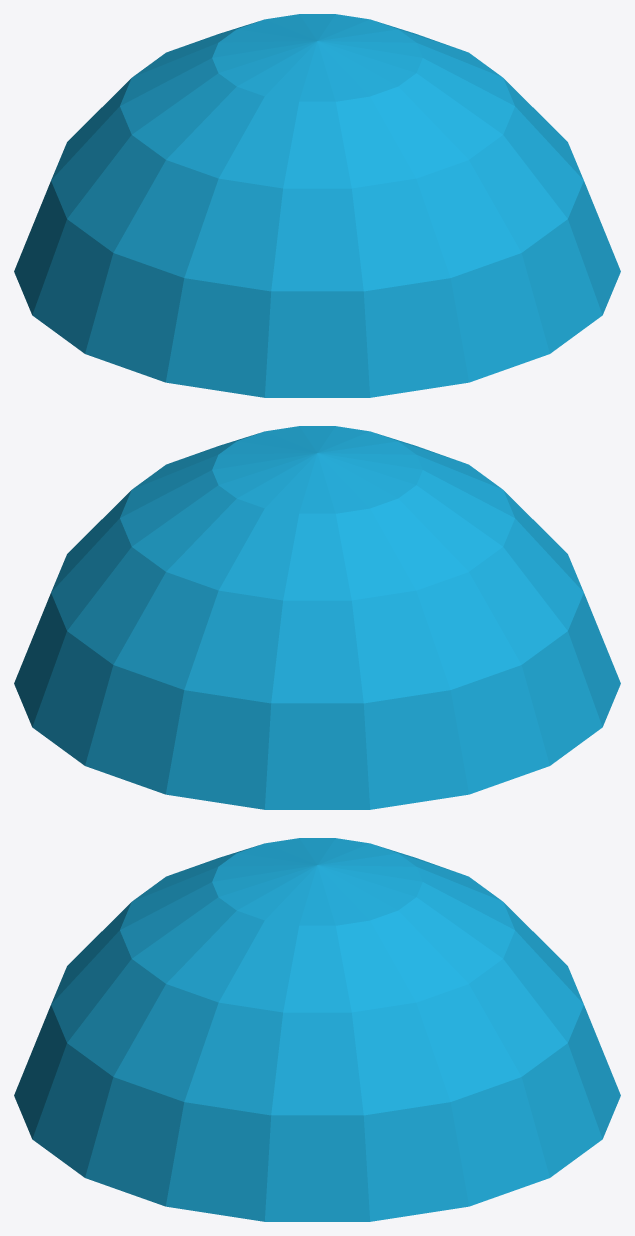
3 views of the same model, one above another, from view 1: azimuth 30°, elevation 25°; view 2: azimuth 150°, elevation 25°; view 3: azimuth 270°, elevation 25° (orthographic).
Visible parts, largest first — view 1: dome; view 2: dome; view 3: dome.
Boxes of the visible parts, x1=… form: dome: x1=14, y1=14, x2=620, y2=397; dome: x1=14, y1=426, x2=620, y2=809; dome: x1=14, y1=838, x2=620, y2=1221.
Bounding box in the file's own units: 9.85 × 4.19 × 10.
